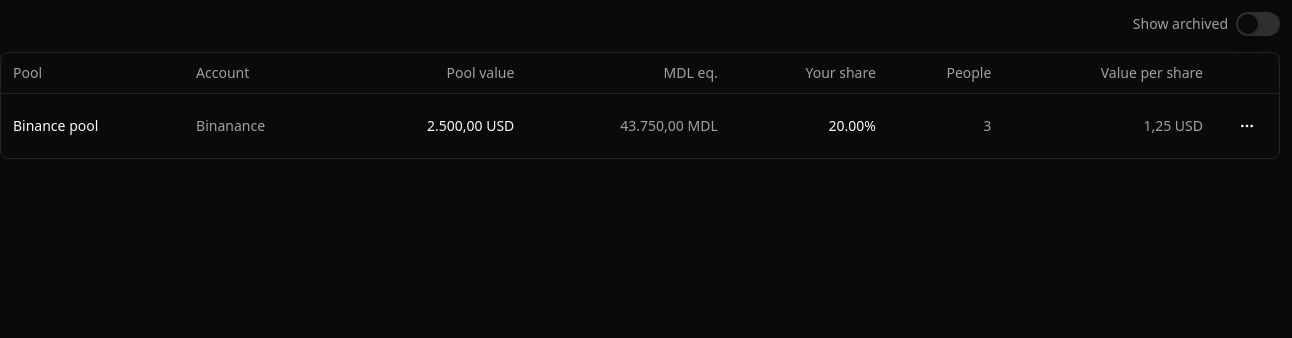
PoolsTable › collapses an archived row to Unarchive + Delete, with no Archive
Click the switch with test id "show-archived-pools-toggle" at (1258, 24), box [1236,12,1280,36]
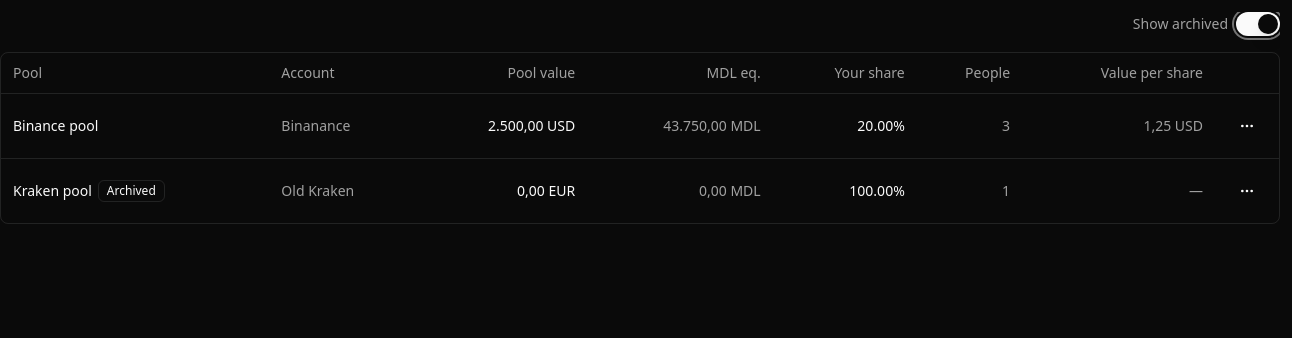
Check: the number of rows with test id "pool-row" is 2, box [1,93,1279,158]; [1,158,1279,222]
Click the button with test id "pool-actions" at (1247, 190), box [1227,170,1267,210]
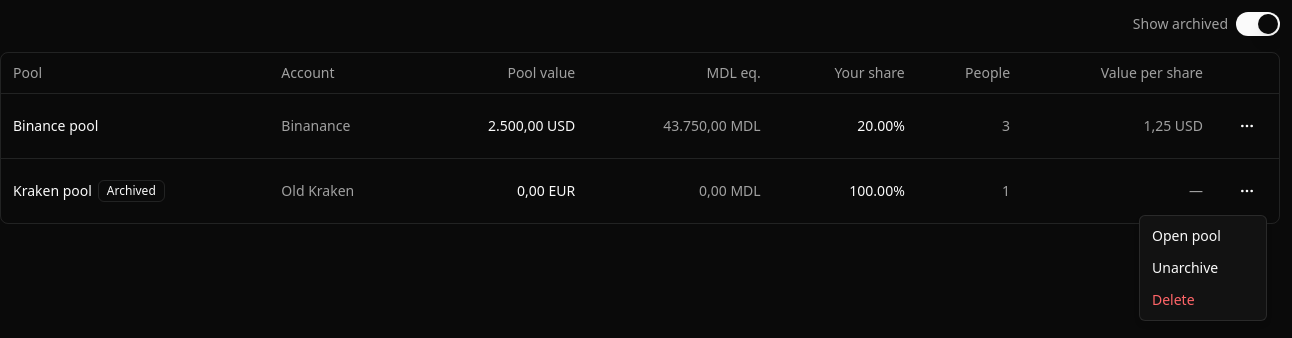
Check: the menu item with test id "unarchive-pool-action" is shown, box [1152,258,1218,277]
Check: the menu item with test id "delete-pool-action" is shown, box [1152,290,1195,309]
